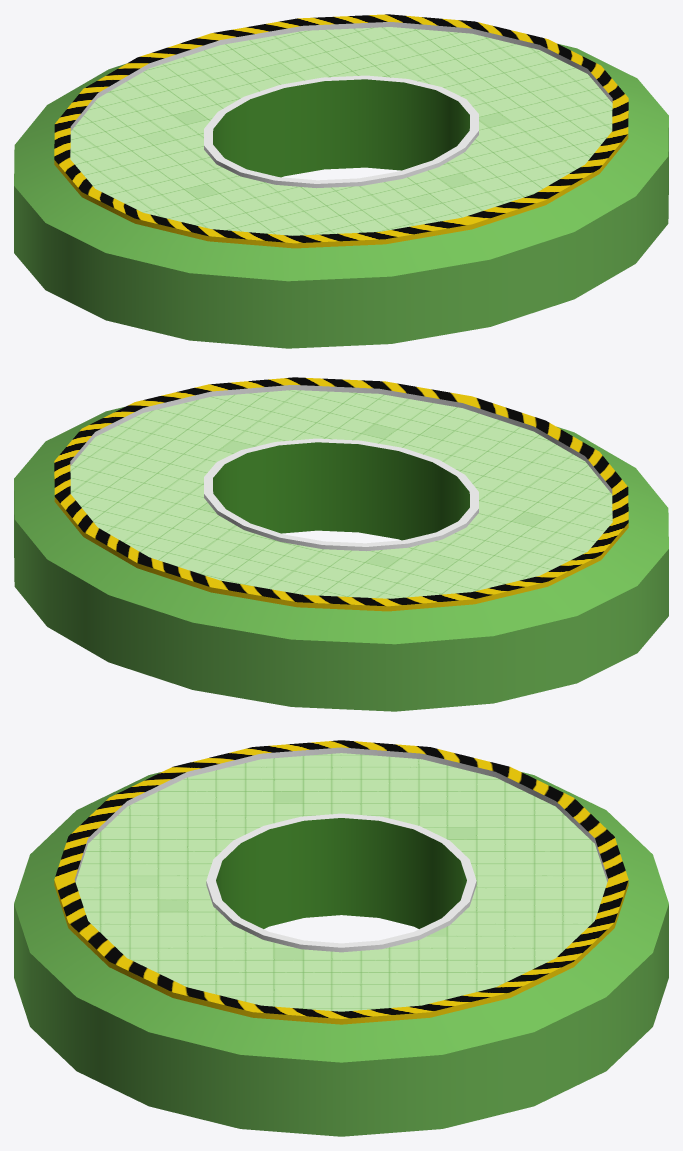
The picture shows the model from 3 angles, top to bottom: view 1: azimuth 30°, elevation 25°; view 2: azimuth 150°, elevation 25°; view 3: azimuth 270°, elevation 25°; orthographic projection. The views are drawn at different scales.
Visible parts, largest first — view 1: floor_koosi.001; view 2: floor_koosi.001; view 3: floor_koosi.001.
Boxes of the visible parts, bbox=[...] form: floor_koosi.001: bbox=[14, 14, 668, 348]; floor_koosi.001: bbox=[14, 377, 668, 711]; floor_koosi.001: bbox=[14, 740, 668, 1136].
Bounding box in the file's own units: 2782 × 401 × 2422.
1 material, 1 textured.
